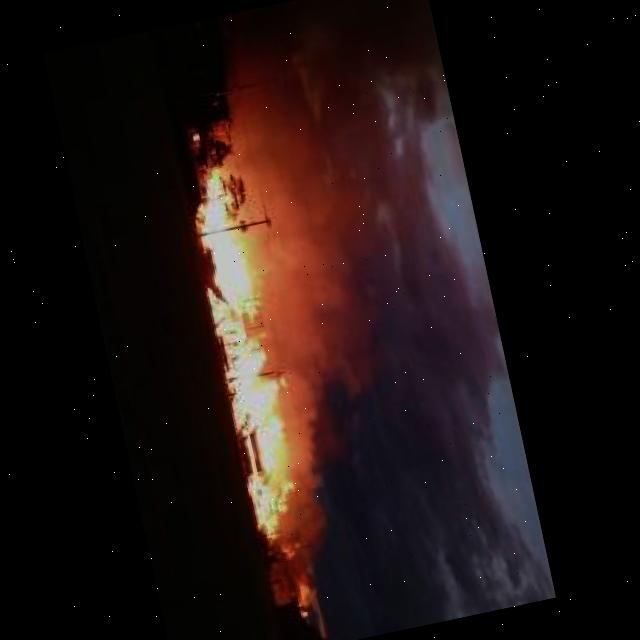fire: (180, 158, 323, 545), (291, 574, 321, 617)
